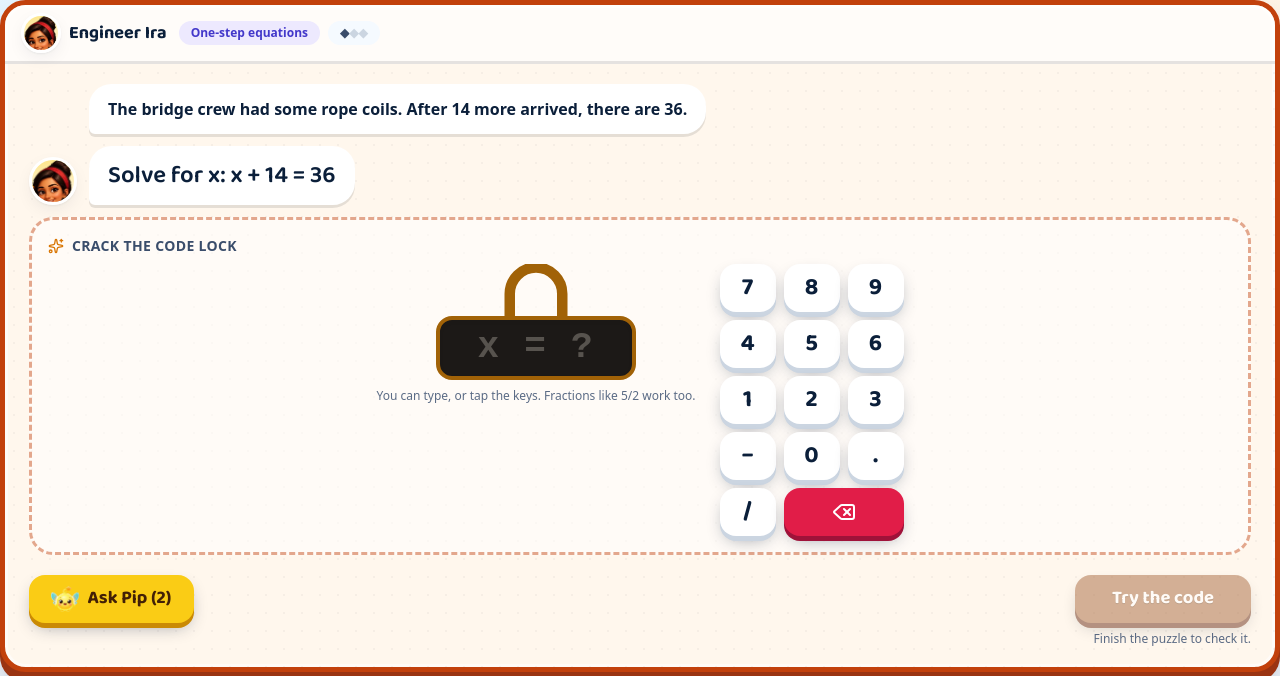
Test: ChallengePanel › is asked by the mission character as a conversation, and the explorer replies in it
expect the text "Engineer Ira" is shown: met, box [69,19,167,47]
Type "5" into the field at (536, 348), box [456,328,616,368]
Then press Enter
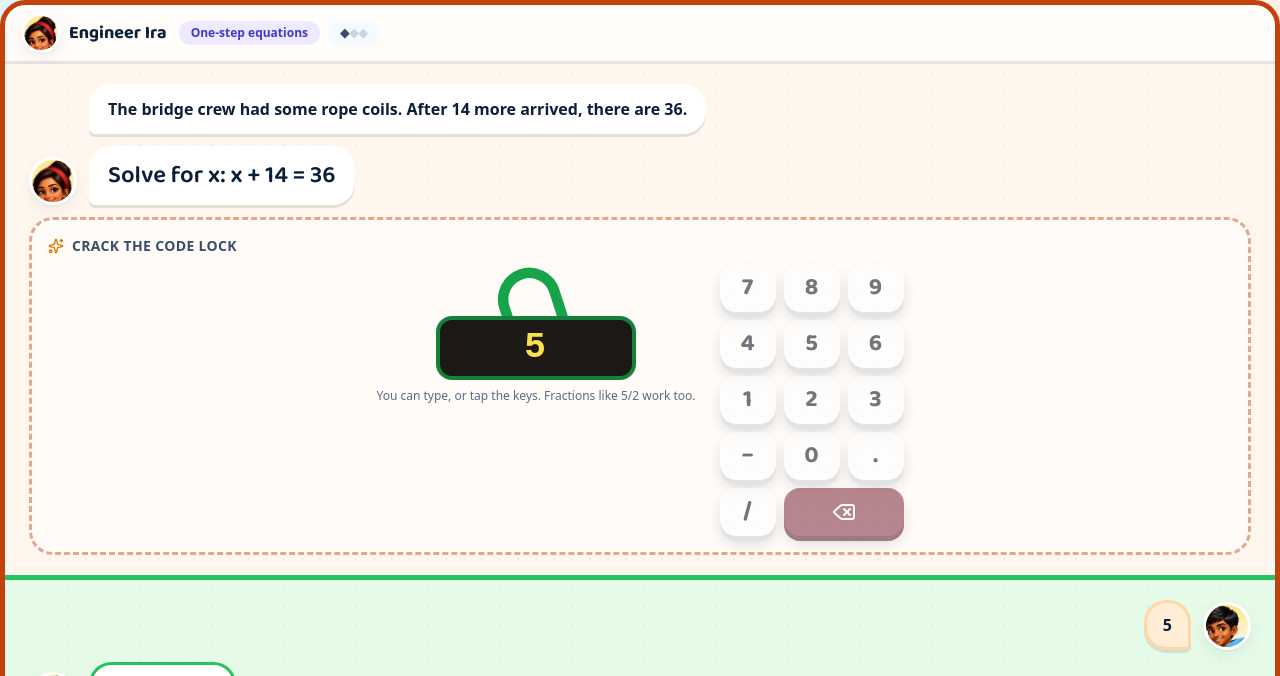
expect the picture named "Sky" is shown: met, box [1206,605,1248,647]
